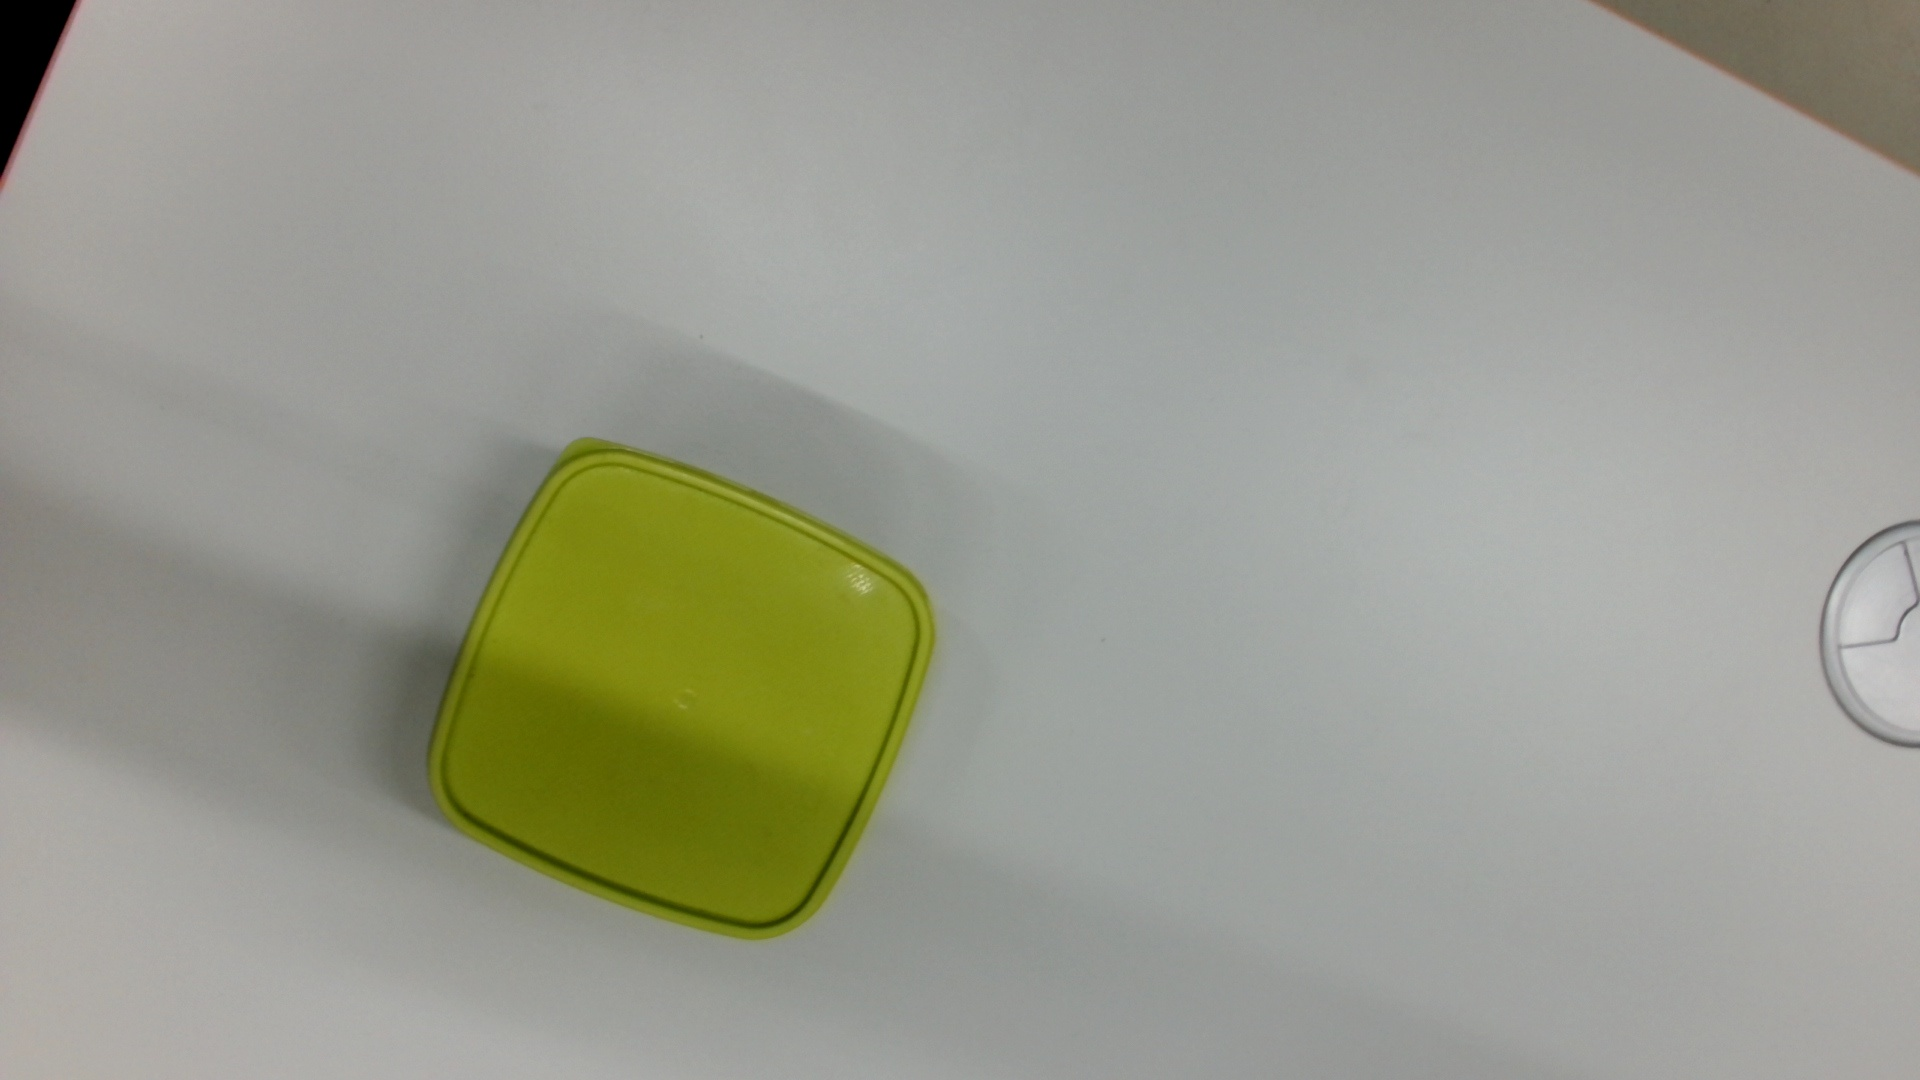Box: (419, 433, 943, 956)
